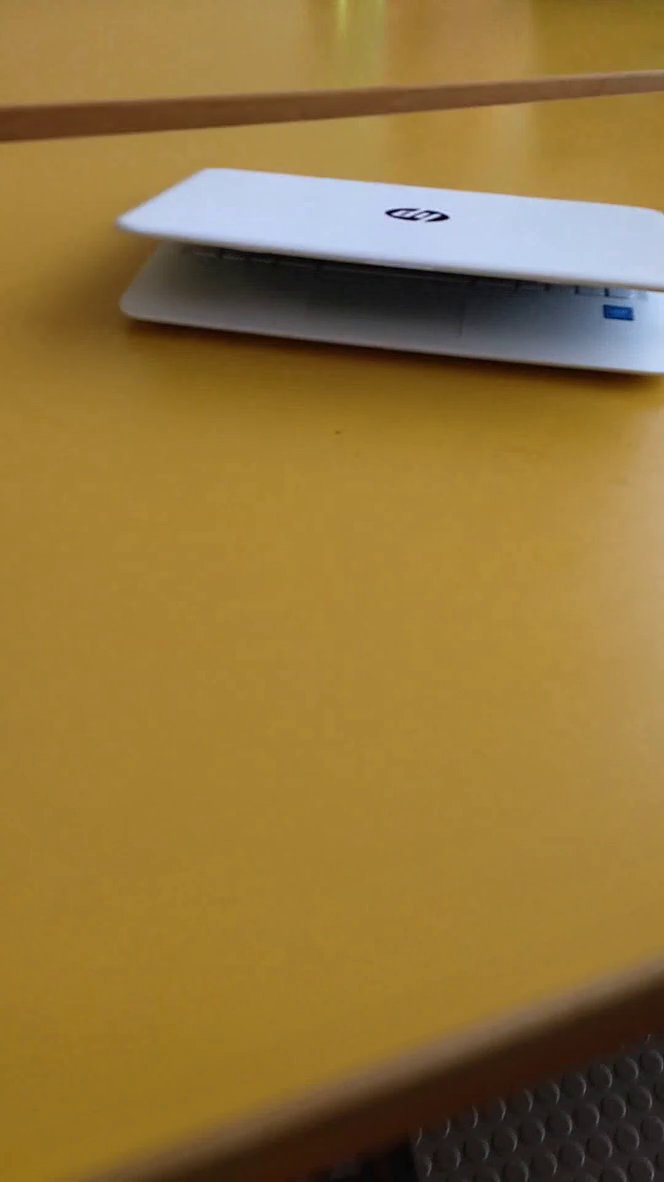laptop: (88, 155, 664, 393)
